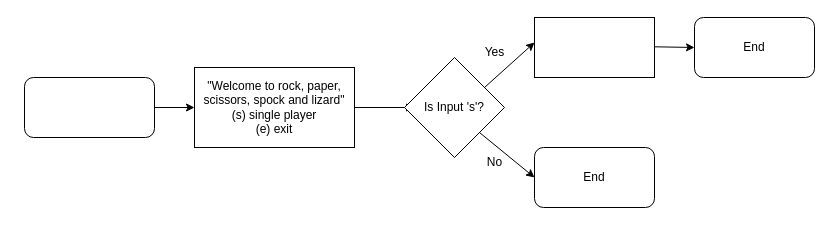
Some shapes in this 832 by 225 pixel diagram are drawn without their labels. The centre of each missing label's shape, as x and y in pixels:
Play game until winner found: point (594, 47)
Start: point (89, 107)
